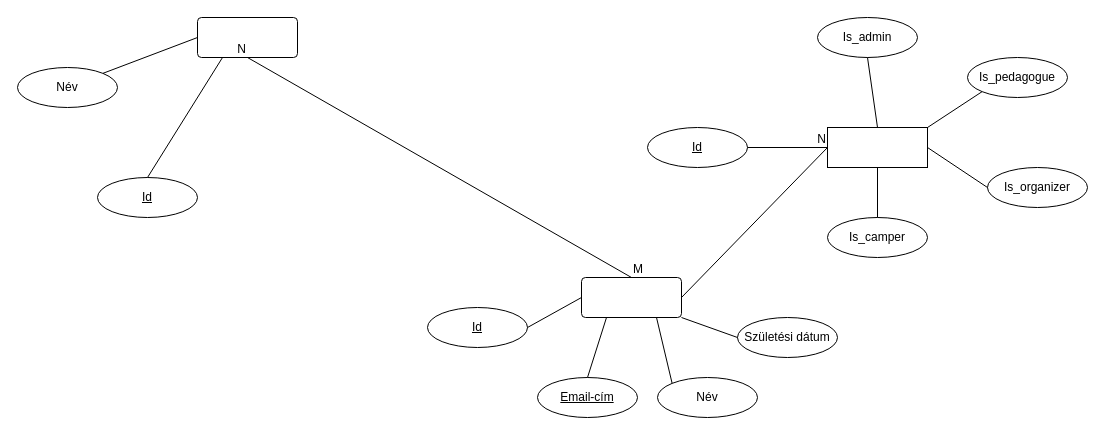
Image size: 1105x435. Some labels were removed from this diagram. The centre of each missing label's shape, as x and y in pixels:
"Felhasználó" goes at [631,297].
"Szerepek" goes at [877,147].
"Tábor" goes at [247,37].
